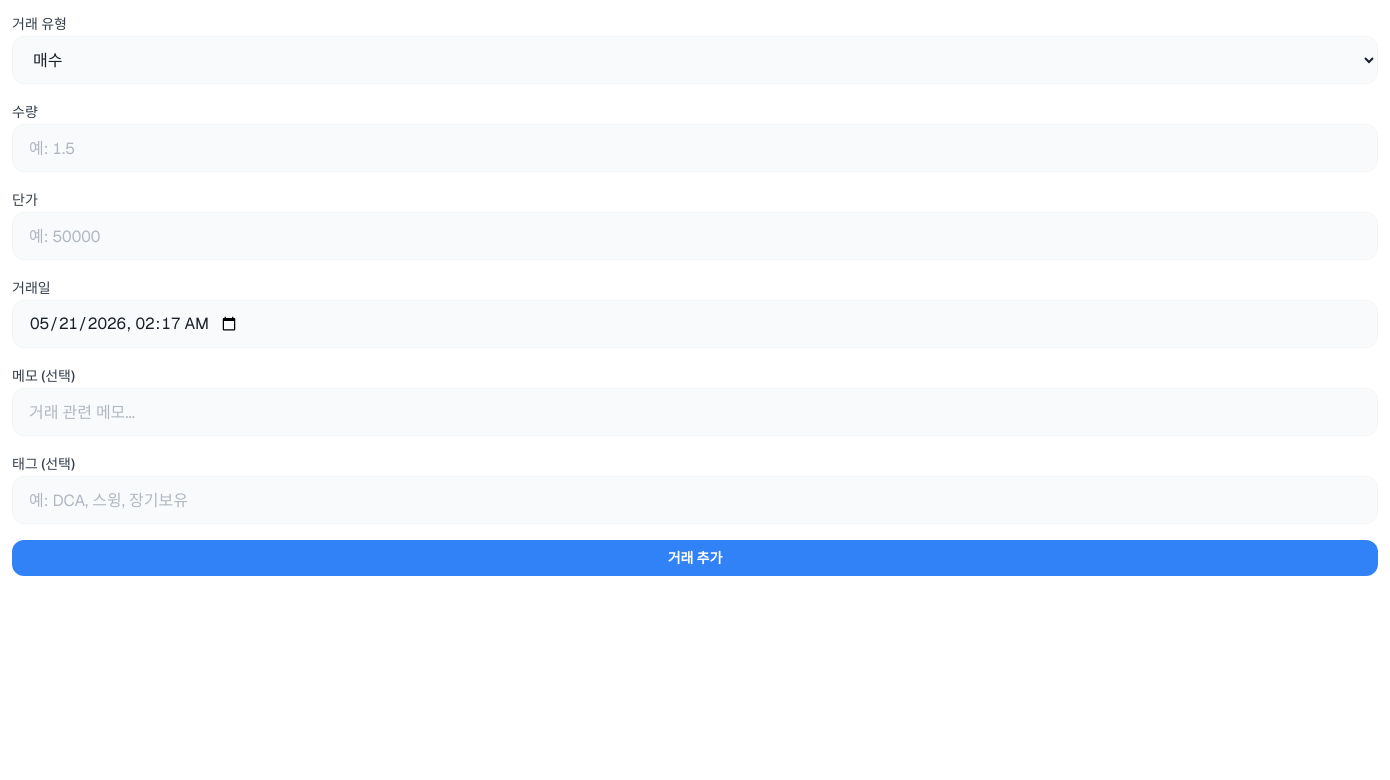
Test: TransactionForm (create 모드 — 기본값) › 숫자가 아닌 수량 입력 시 유효성 오류가 표시된다
In the field named "거래 수량": (695, 148) top-left (12, 124), bottom-right (1378, 172), type "abc"
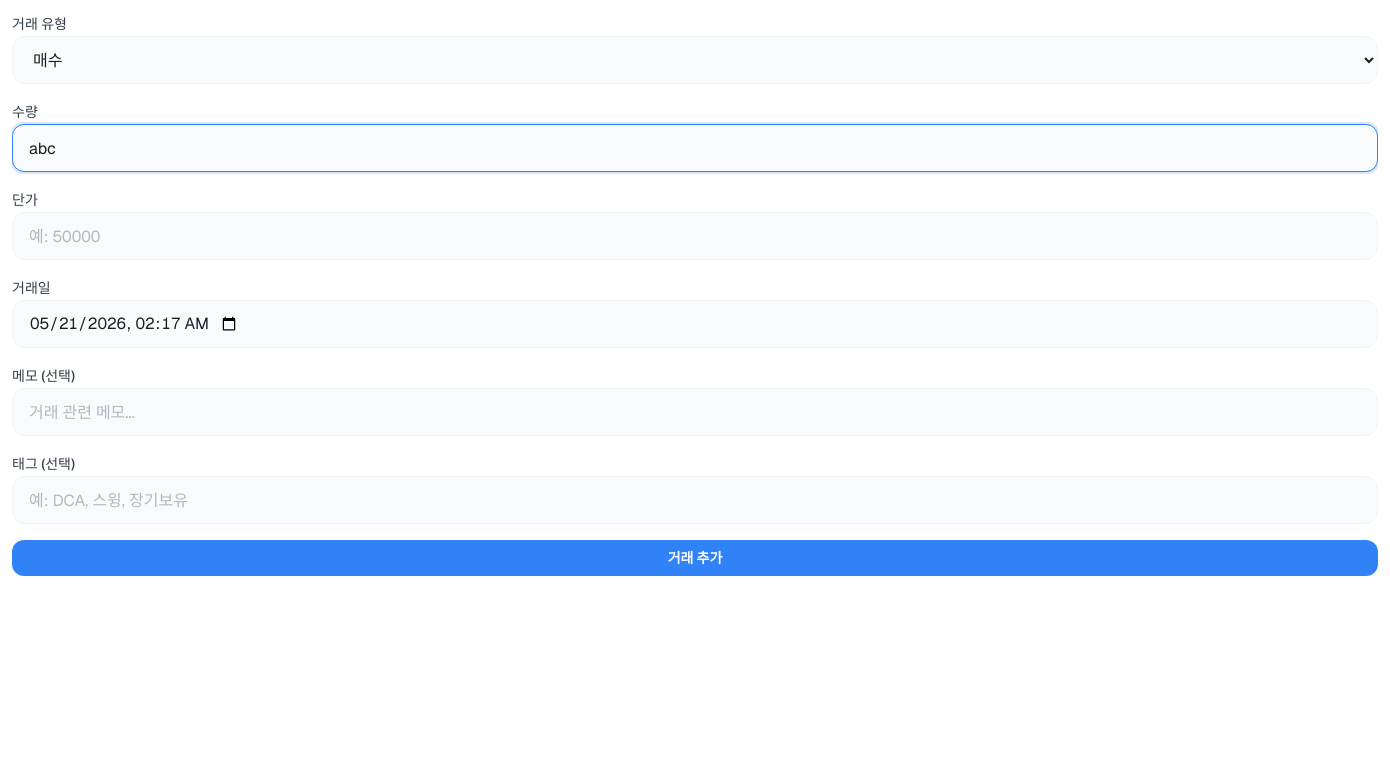
Click the button "거래 추가": (695, 558) top-left (12, 540), bottom-right (1378, 576)
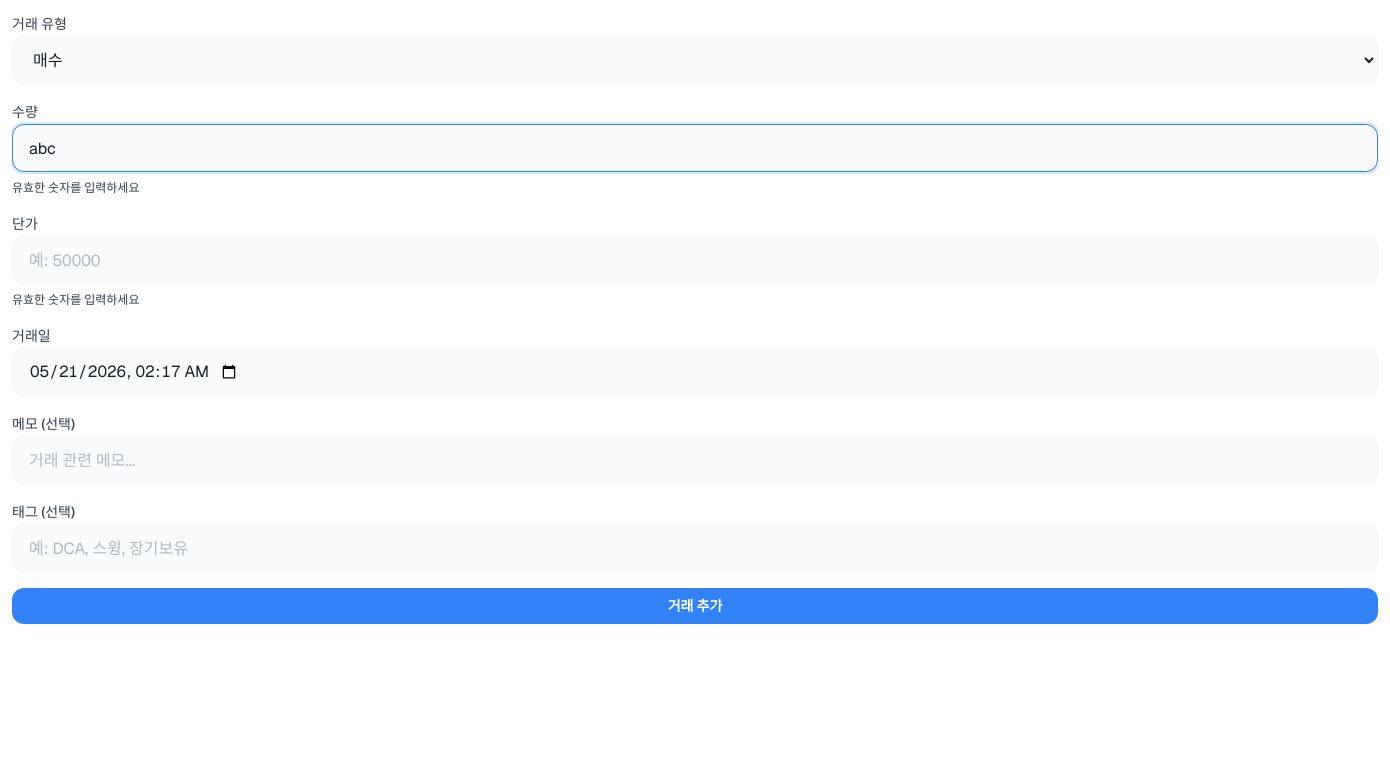
Result: the text "유효한 숫자를 입력하세요" below "수량" is shown at top-left (12, 180), bottom-right (140, 196)
